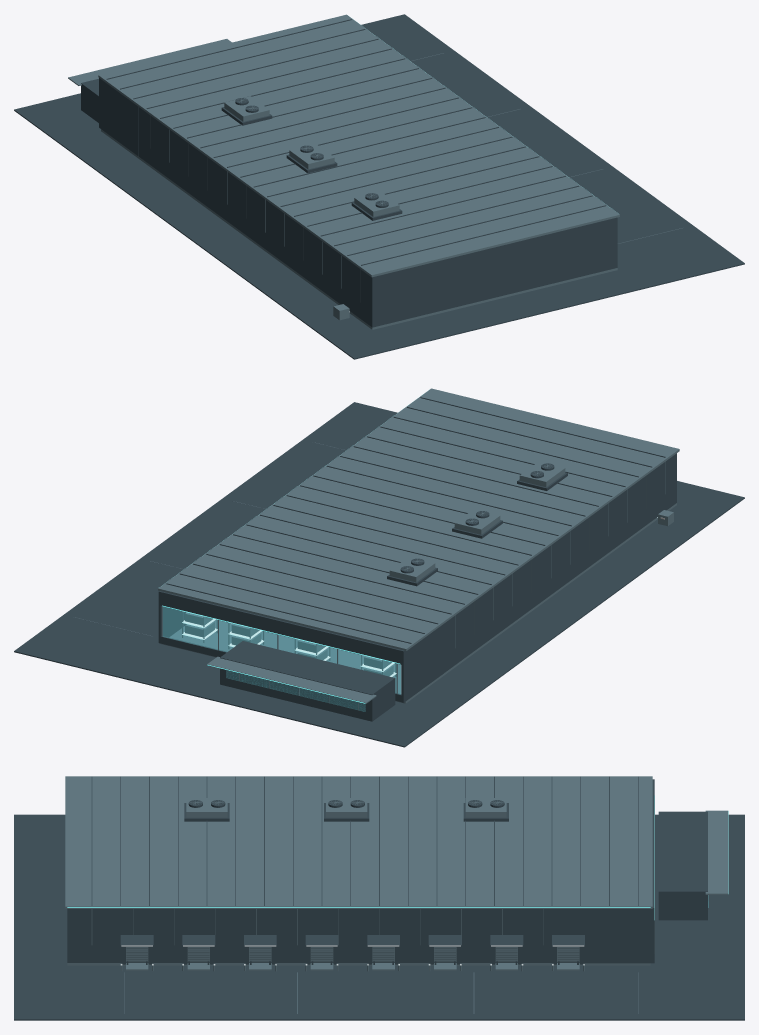
Rendered from warehouse_logistics_center.glb.
3 renders of one model, top to bottom at view 1: azimuth 30°, elevation 25°; view 2: azimuth 150°, elevation 25°; view 3: azimuth 270°, elevation 25°, orthographic. The views are drawn at different scales.
Visible parts, largest first — view 1: warehouse_logistics_center_graphite, warehouse_logistics_center_graphite_light; view 2: warehouse_logistics_center_graphite, warehouse_logistics_center_graphite_light, warehouse_logistics_center_glass; view 3: warehouse_logistics_center_graphite, warehouse_logistics_center_graphite_light, warehouse_logistics_center_edge, warehouse_logistics_center_white.
Boxes of the visible parts, left/top/right/bottom form: warehouse_logistics_center_graphite: left=14, top=14, right=744, bottom=359; warehouse_logistics_center_graphite_light: left=68, top=14, right=682, bottom=329; warehouse_logistics_center_graphite: left=14, top=397, right=744, bottom=747; warehouse_logistics_center_graphite_light: left=74, top=388, right=679, bottom=710; warehouse_logistics_center_glass: left=163, top=606, right=400, bottom=711; warehouse_logistics_center_graphite: left=14, top=776, right=744, bottom=1020; warehouse_logistics_center_graphite_light: left=65, top=776, right=728, bottom=1014; warehouse_logistics_center_edge: left=67, top=795, right=728, bottom=919; warehouse_logistics_center_white: left=120, top=945, right=584, bottom=965.
Bounding box in the file's own units: 118 × 19.33 × 178.
